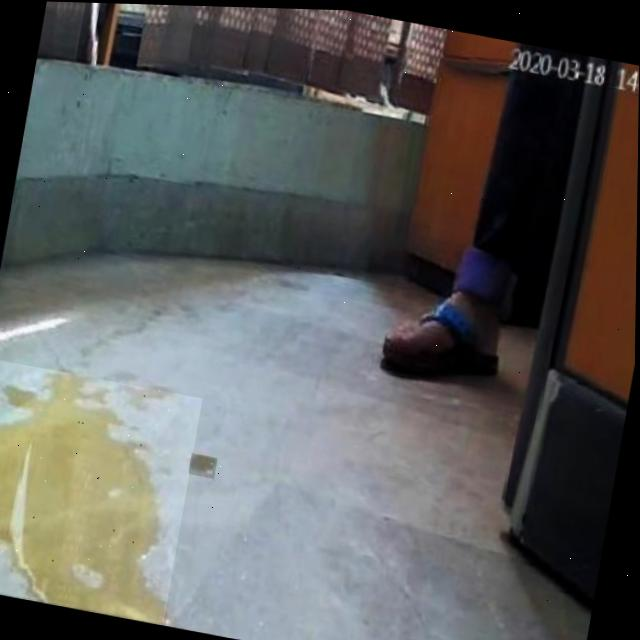spillage: (0, 373, 167, 624), (193, 454, 216, 476)
